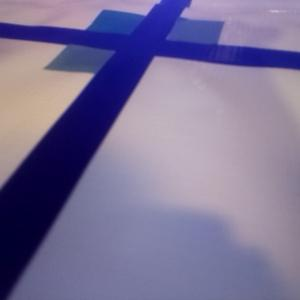bottom_left: (44, 34, 142, 73)
top_left: (85, 8, 165, 44)
top_right: (144, 16, 224, 54)
